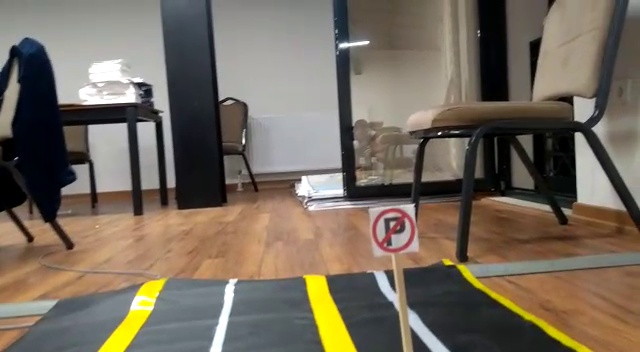park_yapilmaz: (370, 206, 417, 254)
